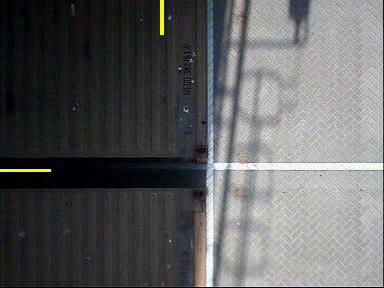groundmarker_2: (191, 29, 234, 80), (190, 199, 233, 249)
